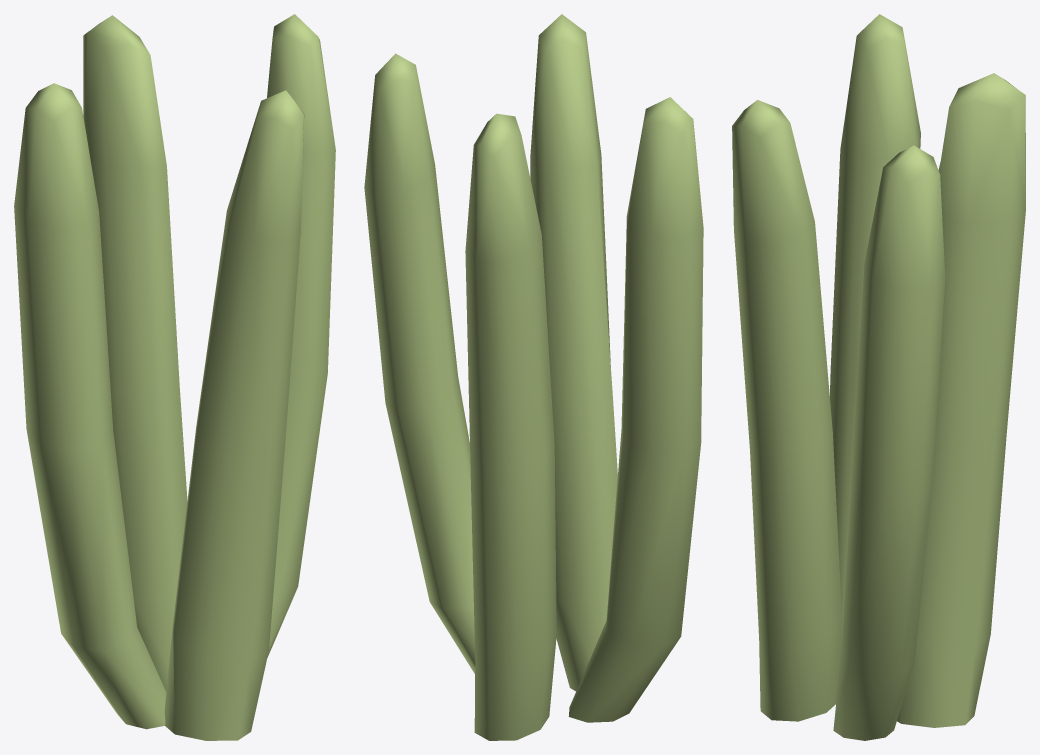
The model's file is Grass_07.fbx.
The picture shows the model from 3 angles, left to right: view 1: azimuth 30°, elevation 25°; view 2: azimuth 150°, elevation 25°; view 3: azimuth 270°, elevation 25°; orthographic projection.
Visible parts, largest first — view 1: polySurface961; view 2: polySurface961; view 3: polySurface961.
Boxes of the visible parts, x1,y1,x2,y2 form: polySurface961: (14, 14, 335, 740); polySurface961: (364, 14, 703, 740); polySurface961: (732, 14, 1025, 740).
Bounding box in the file's own units: 28.41 × 54.73 × 22.87.
